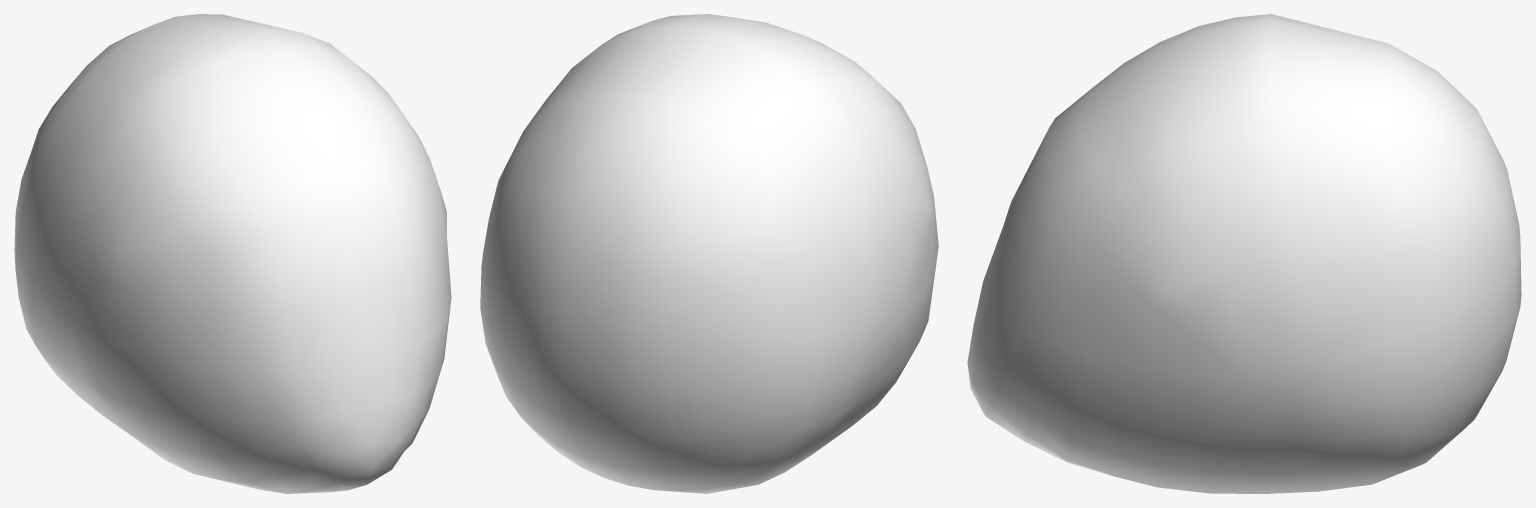
Rendered from Head9.fbx.
The picture shows the model from 3 angles, left to right: view 1: azimuth 30°, elevation 25°; view 2: azimuth 150°, elevation 25°; view 3: azimuth 270°, elevation 25°; orthographic projection. The views are drawn at different scales.
Parts seen in each view (by area): view 1: Head1_shape_363; view 2: Head1_shape_363; view 3: Head1_shape_363.
Boxes of the visible parts, x1,y1,x2,y2 form: Head1_shape_363: (14, 14, 451, 493); Head1_shape_363: (480, 14, 938, 493); Head1_shape_363: (967, 14, 1521, 493).
Size of the model in its own units: 5.26 by 5.82 by 6.71.
Materials: 1 (1 with a texture image).
